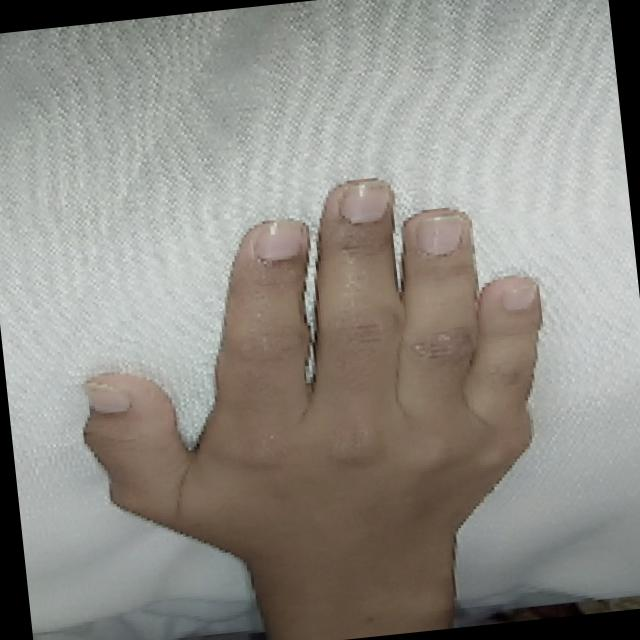Nail: (338, 179, 388, 223), (253, 219, 302, 260), (416, 214, 461, 255), (86, 382, 129, 412), (500, 283, 534, 309)
